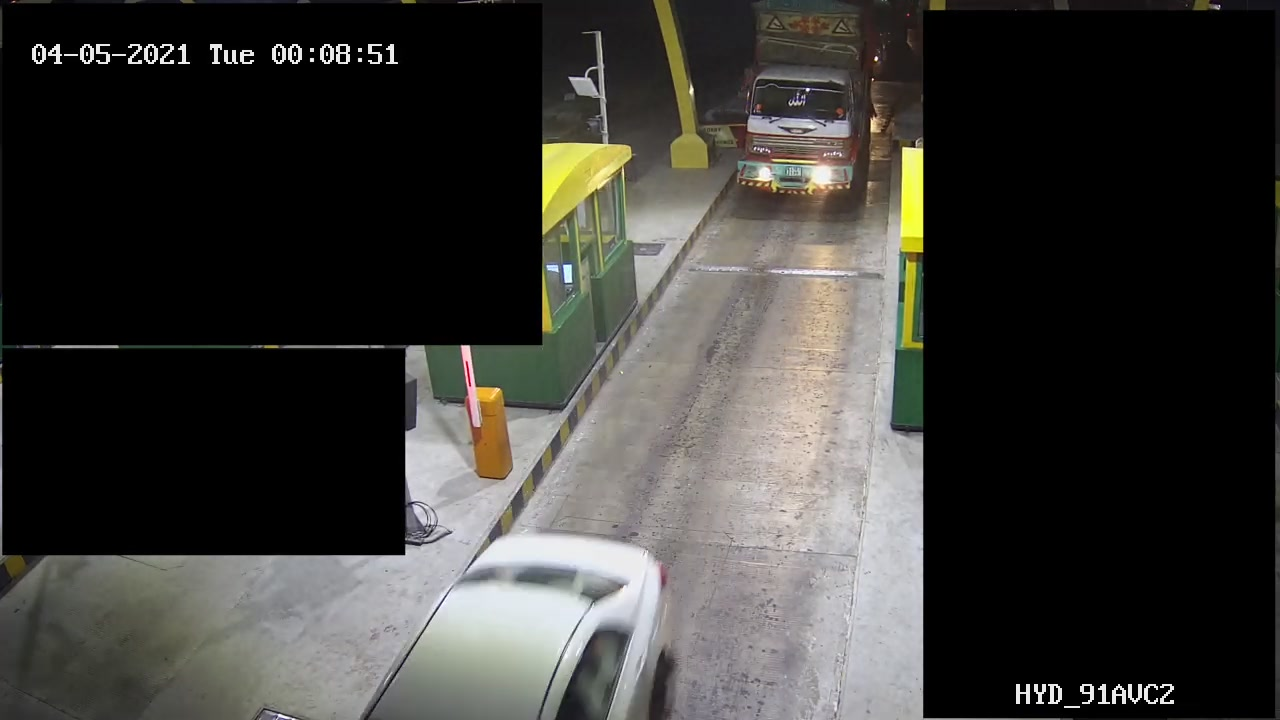F5: (732, 1, 872, 206)
